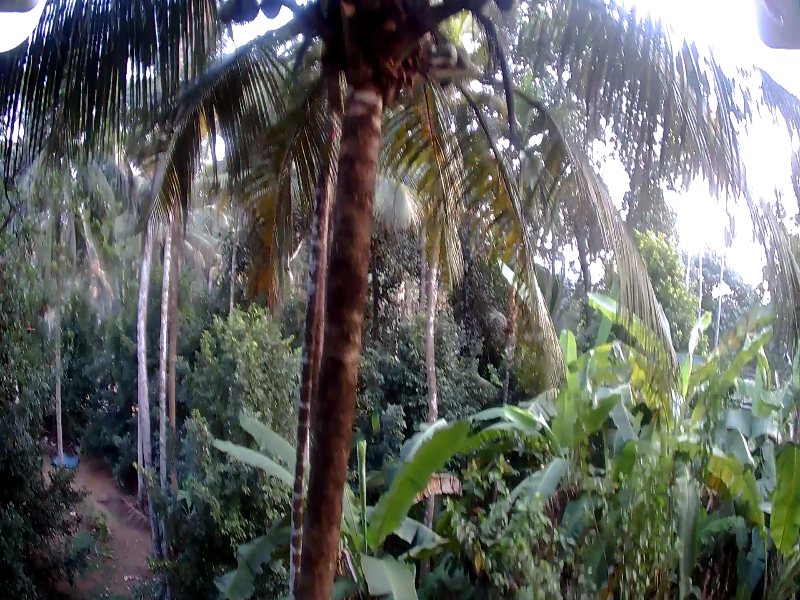coconut: (448, 41, 471, 75), (235, 1, 261, 26), (261, 1, 285, 27), (438, 42, 449, 80), (219, 7, 235, 20)
